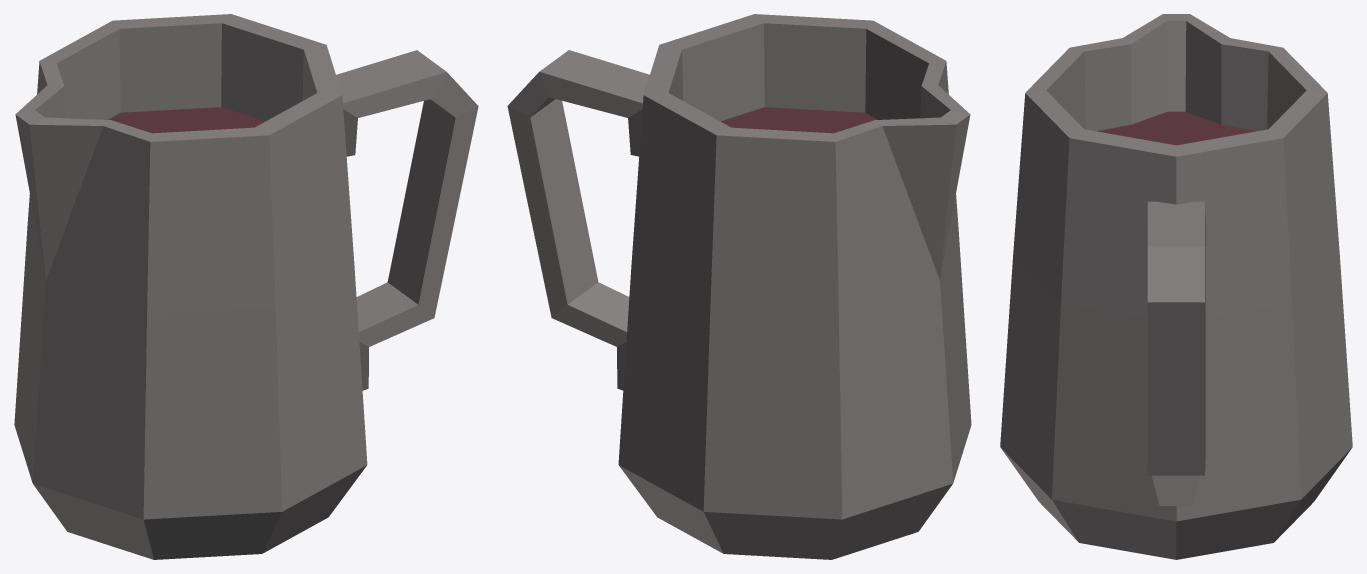
Rendered from jug-milk.fbx.
3 renders of one model, left to right at view 1: azimuth 30°, elevation 25°; view 2: azimuth 150°, elevation 25°; view 3: azimuth 270°, elevation 25°, orthographic. The views are drawn at different scales.
Parts seen in each view (by area): view 1: jug-milk; view 2: jug-milk; view 3: jug-milk.
Part boxes in pixels (bbox=[...]): jug-milk: bbox=[14, 14, 478, 559]; jug-milk: bbox=[507, 14, 971, 559]; jug-milk: bbox=[1000, 14, 1352, 559].
Size of the model in its own units: 0.1051 by 0.0969 by 0.0754.
